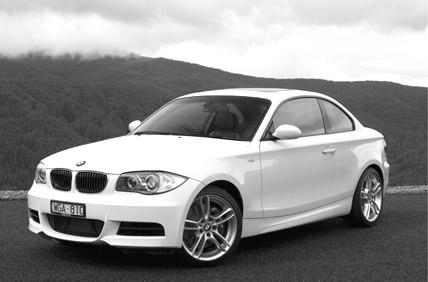car: (28, 90, 392, 264)
